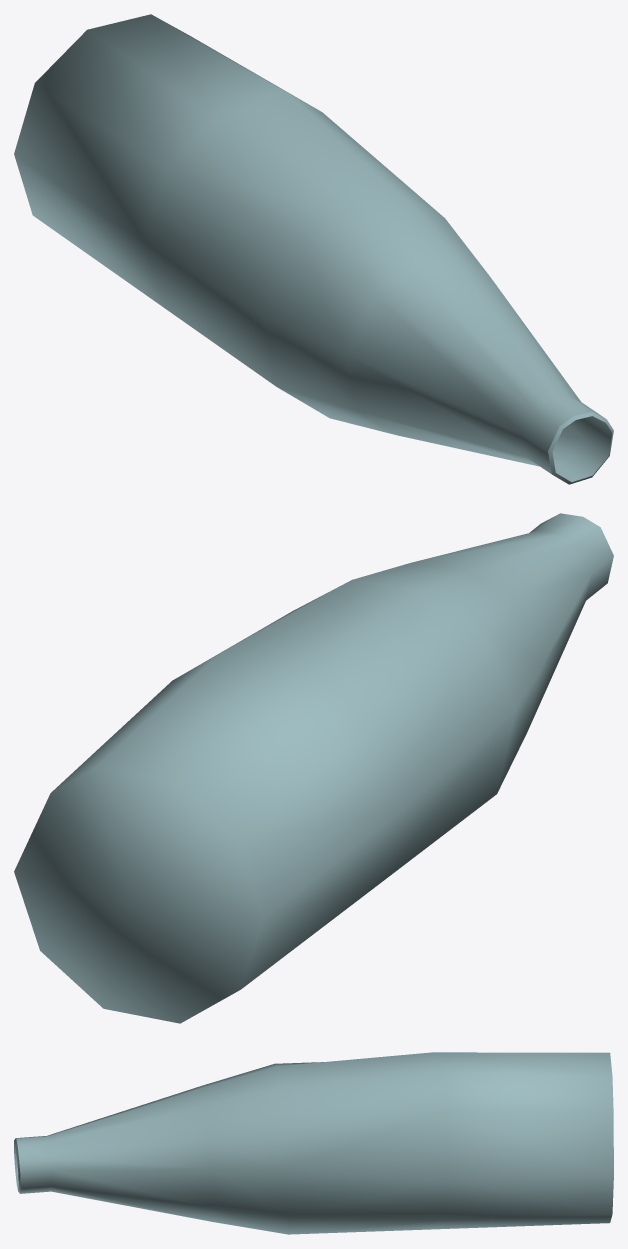
The model's file is brokenBottle_02.fbx.
The picture shows the model from 3 angles, top to bottom: view 1: azimuth 30°, elevation 25°; view 2: azimuth 150°, elevation 25°; view 3: azimuth 270°, elevation 25°; orthographic projection. The views are drawn at different scales.
Parts seen in each view (by area): view 1: brokenBottle_02; view 2: brokenBottle_02; view 3: brokenBottle_02.
Part boxes in pixels (x1,y1,x2,y2): brokenBottle_02: [14, 14, 613, 484]; brokenBottle_02: [14, 513, 613, 1023]; brokenBottle_02: [14, 1052, 613, 1234].
Size of the model in its own units: 16.07 by 15.35 by 52.26.
